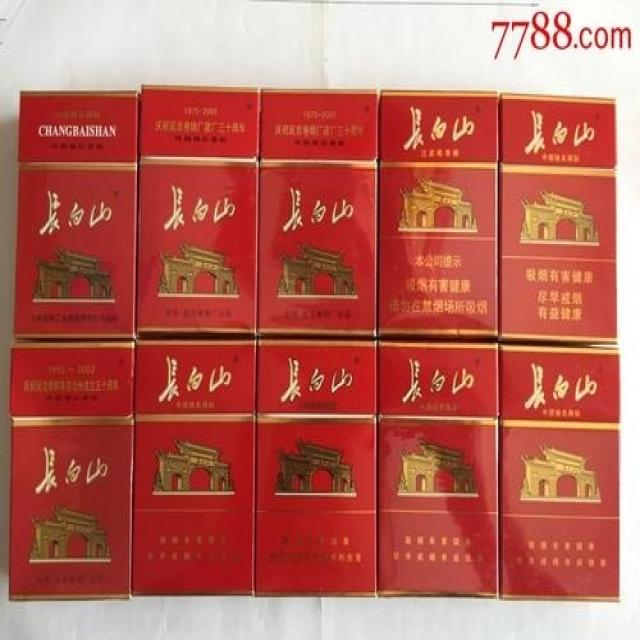box: (6, 338, 134, 602), (131, 338, 259, 597), (253, 340, 378, 597), (12, 90, 140, 338), (500, 345, 621, 606), (136, 87, 261, 338), (378, 343, 499, 601), (378, 89, 499, 343), (257, 89, 378, 340), (499, 90, 618, 345)
